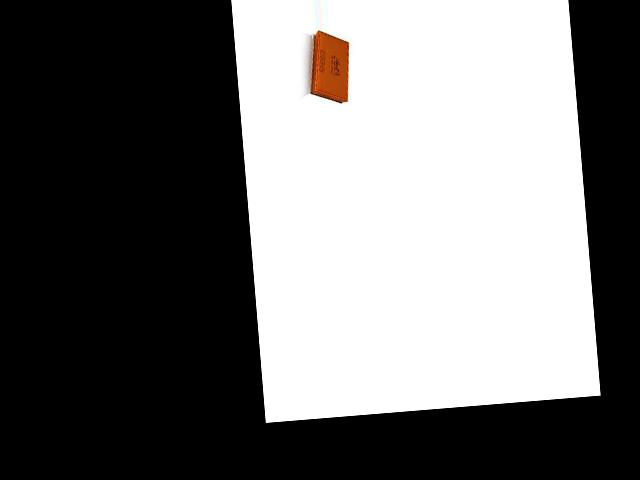chocolate: (299, 28, 356, 107)
